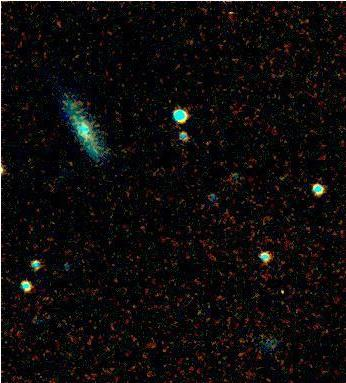star: (265, 280, 295, 310)
